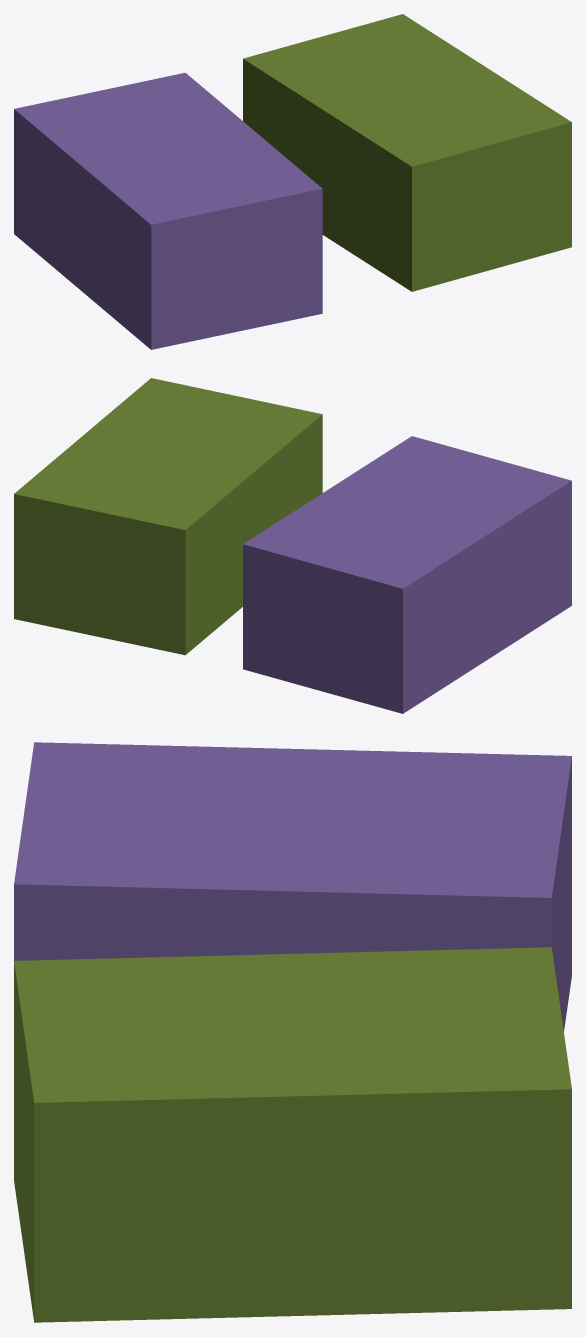
The model's file is feet.glb.
3 renders of one model, top to bottom at view 1: azimuth 30°, elevation 25°; view 2: azimuth 150°, elevation 25°; view 3: azimuth 270°, elevation 25°, orthographic. The views are drawn at different scales.
Visible parts, largest first — view 1: boot_-1, boot_1; view 2: boot_-1, boot_1; view 3: boot_1, boot_-1.
Part boxes in pixels (box(x1,y1,x2,y2)): boot_-1: box(14, 72, 322, 349); boot_1: box(243, 14, 571, 291); boot_-1: box(243, 436, 571, 713); boot_1: box(14, 378, 322, 655); boot_1: box(14, 947, 571, 1322); boot_-1: box(14, 742, 571, 1031).
Bounding box in the file's own units: 0.6335 × 0.18 × 0.4143.
